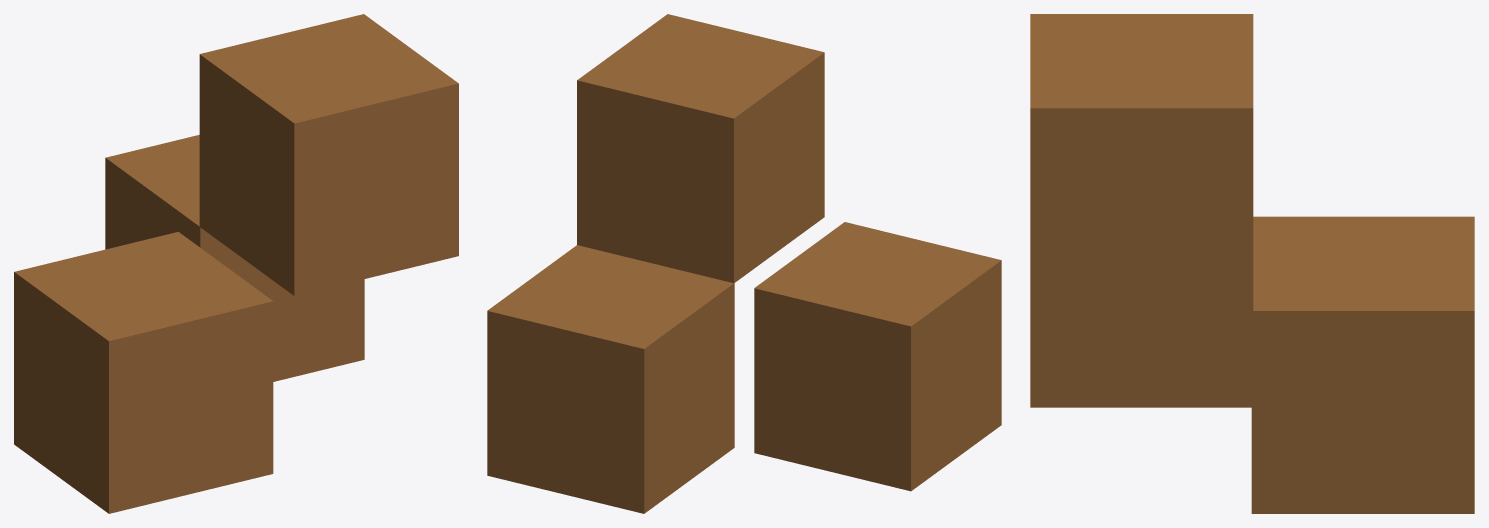
File: Boxes.fbx
3 renders of one model, left to right at view 1: azimuth 30°, elevation 25°; view 2: azimuth 150°, elevation 25°; view 3: azimuth 270°, elevation 25°, orthographic. The views are drawn at different scales.
Parts seen in each view (by area): view 1: Plane.003, Plane.004, Plane.001; view 2: Plane.004, Plane.003, Plane.001; view 3: Plane.003, Plane.001, Plane.004.
Boxes of the visible parts, left/top/right/bottom form: Plane.003: left=199, top=14, right=458, bottom=296; Plane.004: left=14, top=231, right=273, bottom=513; Plane.001: left=105, top=135, right=364, bottom=381; Plane.004: left=754, top=222, right=1001, bottom=491; Plane.003: left=577, top=14, right=824, bottom=283; Plane.001: left=487, top=245, right=734, bottom=513; Plane.003: left=1030, top=14, right=1253, bottom=311; Plane.001: left=1251, top=216, right=1474, bottom=513; Plane.004: left=1030, top=311, right=1251, bottom=407.
Size of the model in its own units: 294 by 277 by 275.
